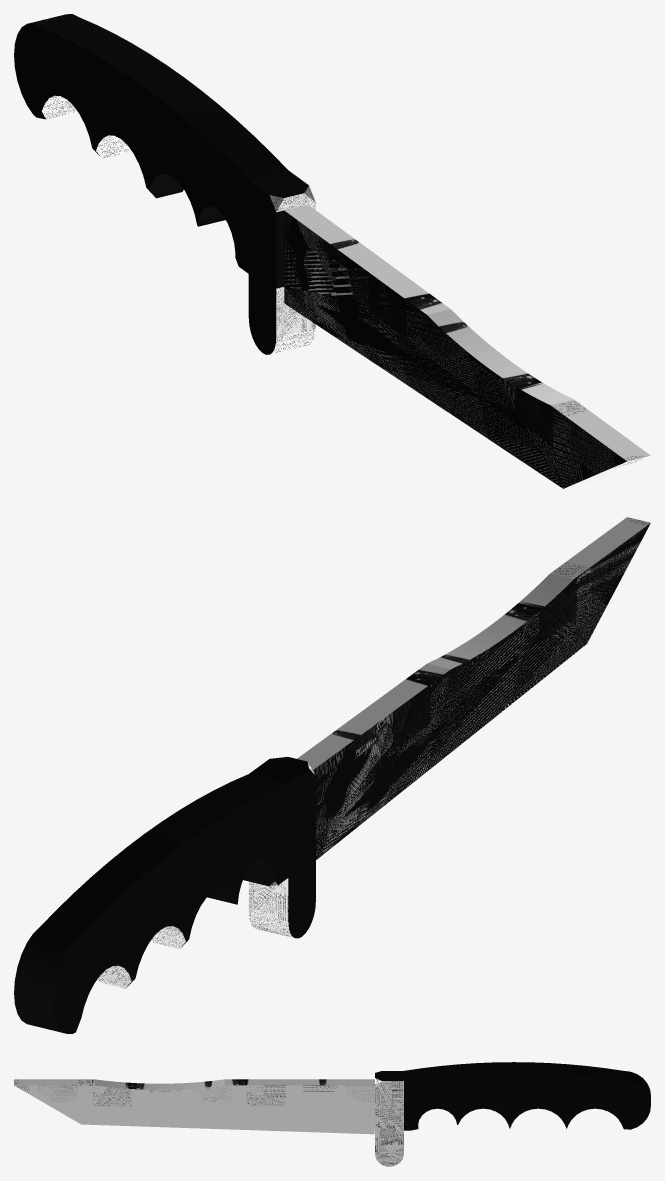
File: model_scale.obj
The picture shows the model from 3 angles, top to bottom: view 1: azimuth 30°, elevation 25°; view 2: azimuth 150°, elevation 25°; view 3: azimuth 270°, elevation 25°; orthographic projection. The views are drawn at different scales.
Parts seen in each view (by area): view 1: mesh1_mesh1-geometry; view 2: mesh1_mesh1-geometry; view 3: mesh1_mesh1-geometry.
Boxes of the visible parts, <box> form: mesh1_mesh1-geometry: <box>14,14,650,488</box>; mesh1_mesh1-geometry: <box>14,517,650,1033</box>; mesh1_mesh1-geometry: <box>14,1062,650,1166</box>.
Bounding box in the file's own units: 0.00896 × 0.0388 × 0.2371.
